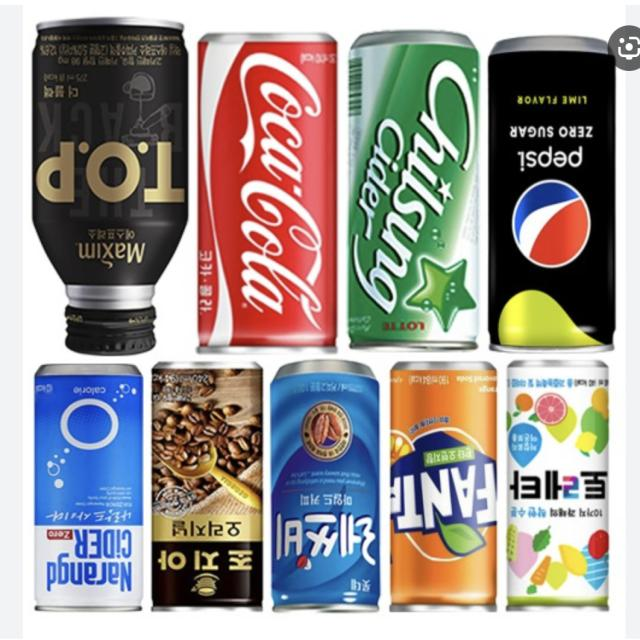can: (190, 25, 348, 360), (342, 23, 486, 360), (484, 31, 624, 354), (379, 356, 514, 626), (25, 360, 154, 632), (266, 357, 388, 627), (146, 360, 268, 630), (504, 348, 620, 626)
